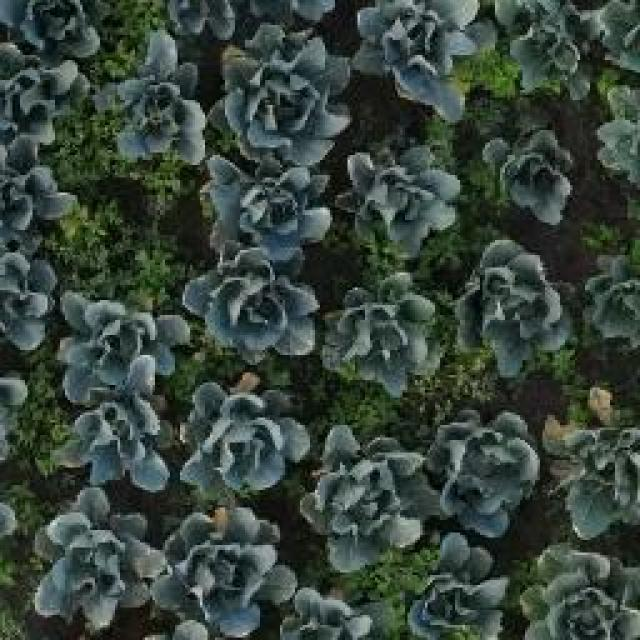cabbage: (32, 487, 163, 630), (158, 508, 296, 640), (304, 424, 430, 564), (213, 22, 351, 147), (320, 273, 444, 401), (455, 239, 570, 377), (184, 247, 317, 365), (353, 0, 485, 115), (55, 285, 187, 400), (182, 379, 306, 494), (428, 410, 540, 532), (342, 145, 462, 256), (555, 386, 640, 540), (215, 147, 325, 265), (105, 38, 206, 164), (494, 0, 611, 97), (394, 539, 506, 640), (526, 545, 640, 640), (0, 0, 103, 104), (482, 121, 582, 225), (64, 398, 170, 492)
